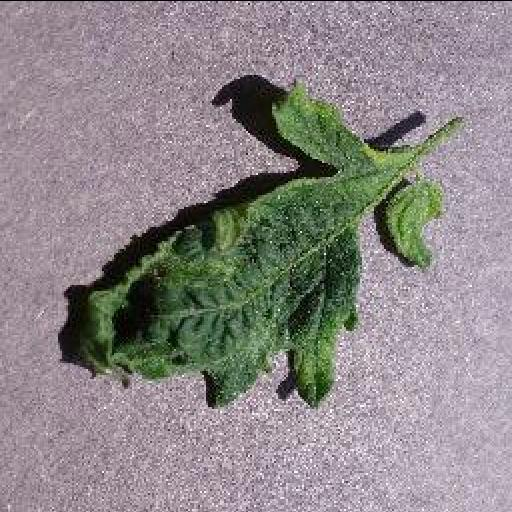disease_tomato: (74, 68, 444, 408)
